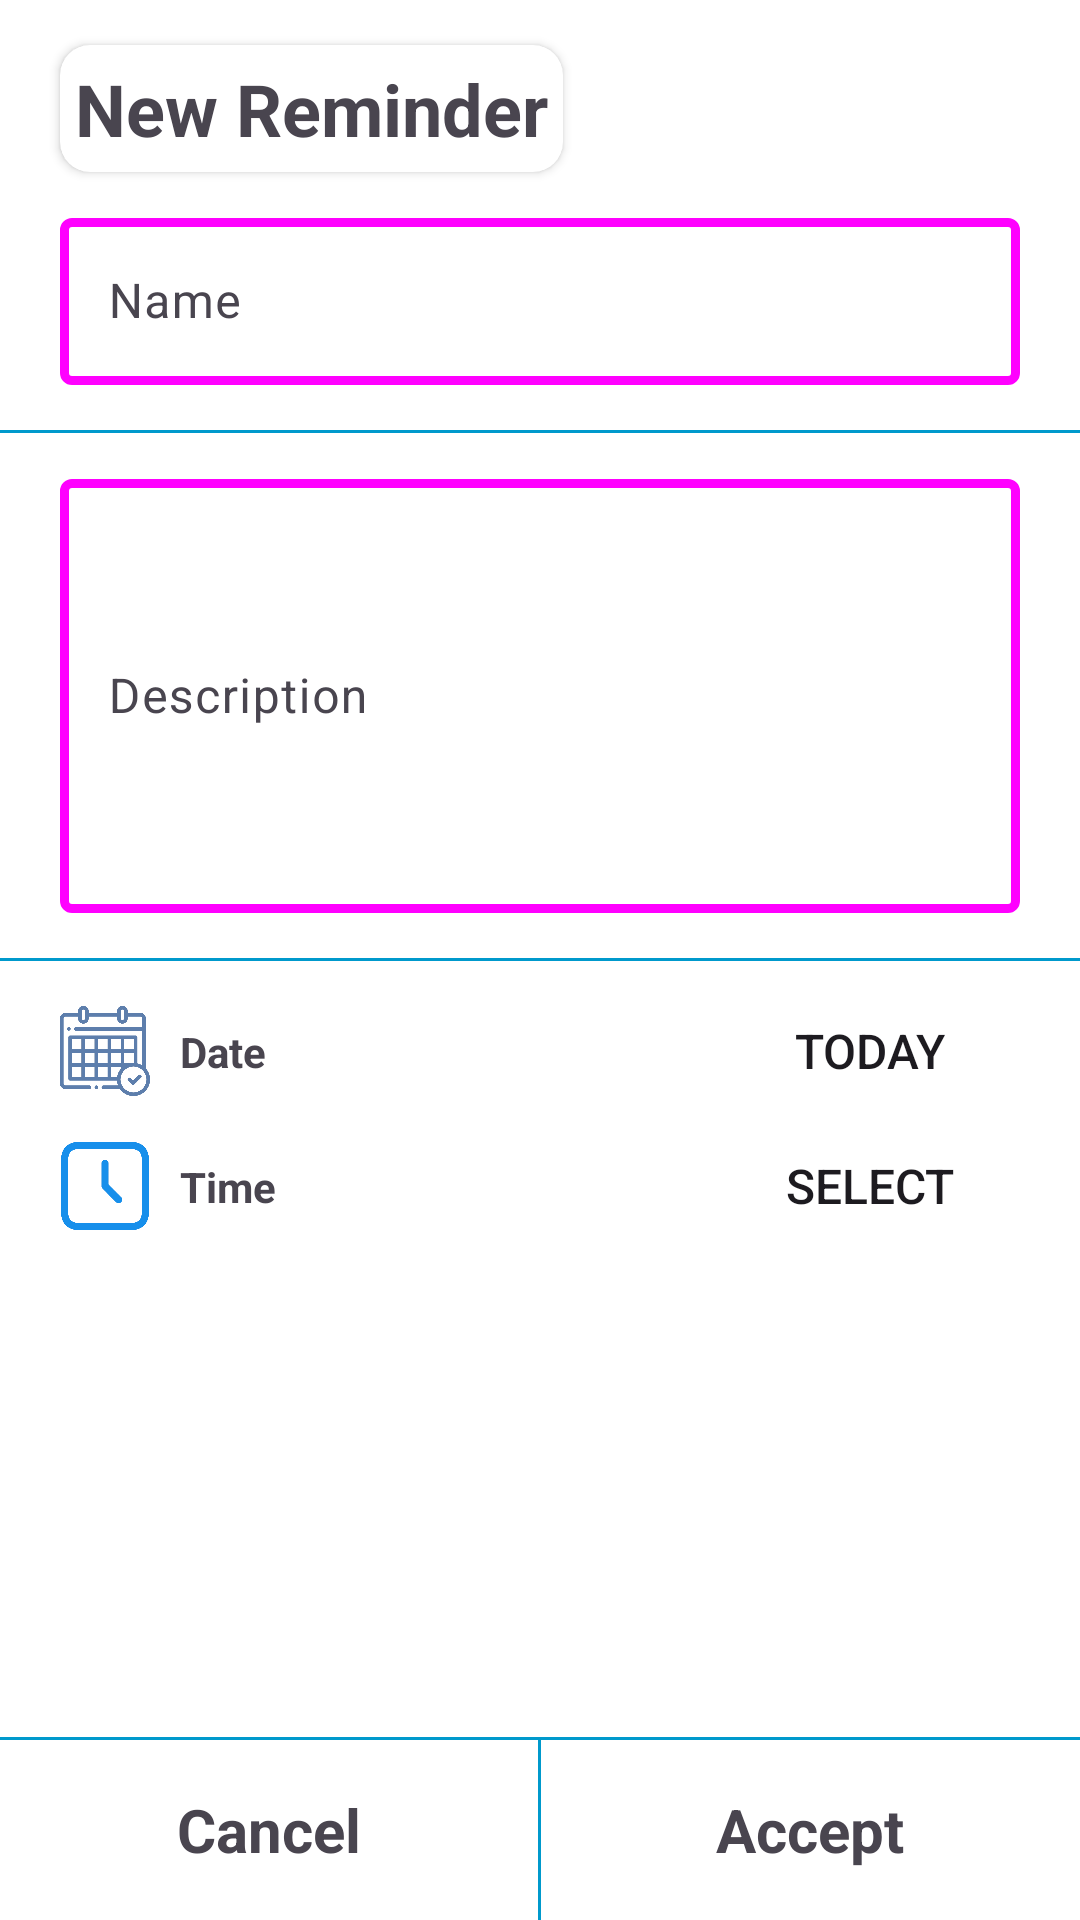

Where to tap for icons on this 1080px×1920px app screen, as [x,y]:
calendar: [105,1051]
watch: [105,1186]
